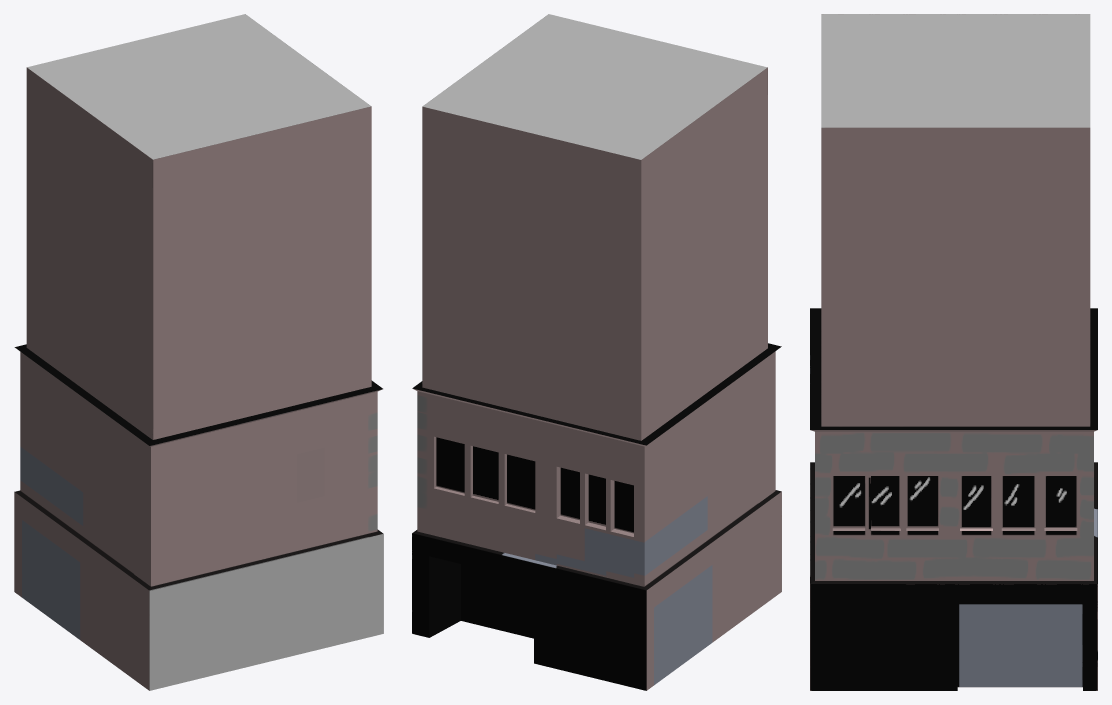
The model's file is shoppers.glb.
The picture shows the model from 3 angles, left to right: view 1: azimuth 30°, elevation 25°; view 2: azimuth 150°, elevation 25°; view 3: azimuth 270°, elevation 25°; orthographic projection. The views are drawn at different scales.
Parts seen in each view (by area): view 1: shoppers; view 2: shoppers; view 3: shoppers.
Boxes of the visible parts, bbox=[...] form: shoppers: bbox=[14, 14, 383, 690]; shoppers: bbox=[412, 14, 781, 690]; shoppers: bbox=[810, 14, 1097, 690].
Bounding box in the file's own units: 7.97 × 17.1 × 7.97.
Materials: 1 (1 with a texture image).
